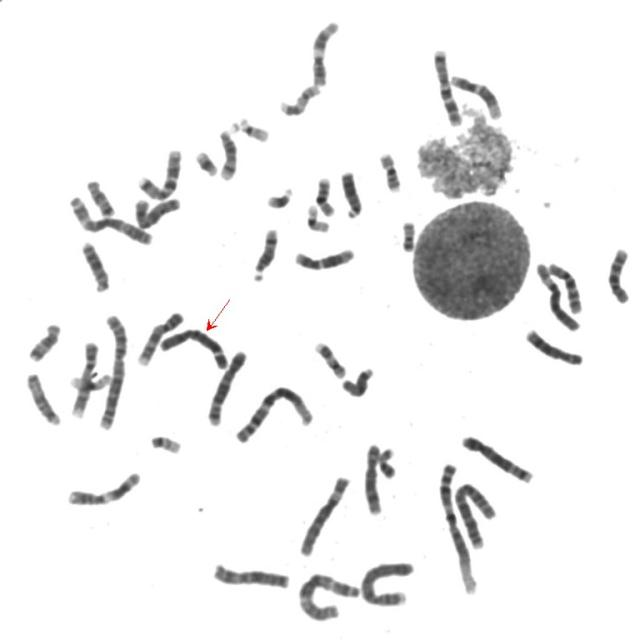A1: (434, 456, 482, 596), (230, 380, 317, 445)
A2: (93, 309, 130, 432), (451, 478, 499, 551)
A3: (64, 191, 156, 246), (294, 567, 364, 623)
B4: (157, 323, 230, 373), (358, 556, 418, 608)
B5: (458, 430, 536, 484), (203, 345, 250, 427)
C10: (544, 257, 585, 316), (604, 242, 634, 306)
C11: (63, 467, 144, 508), (306, 14, 342, 88)
C12: (446, 70, 505, 120), (289, 242, 358, 272)
C6: (296, 476, 352, 558), (532, 257, 583, 332)
C7: (428, 43, 465, 127), (133, 143, 185, 202)
C8: (521, 323, 587, 367), (360, 439, 385, 517)
C9: (133, 306, 187, 368), (67, 336, 101, 418)
D13: (76, 236, 112, 293), (337, 166, 365, 220)
D14: (247, 223, 281, 283), (213, 122, 241, 182)
D15: (22, 368, 63, 427), (338, 368, 378, 398)
E16: (374, 147, 404, 193), (311, 172, 338, 218)
E17: (276, 79, 323, 117), (310, 336, 349, 380)
E18: (23, 317, 64, 363), (81, 174, 118, 218)
F19: (65, 367, 115, 392), (302, 200, 332, 233)
F20: (373, 442, 399, 480), (398, 215, 418, 253)
G21: (262, 182, 296, 210), (191, 146, 220, 178)
G22: (232, 112, 272, 143), (146, 430, 184, 455)
X: (208, 558, 294, 591), (130, 191, 183, 230)
